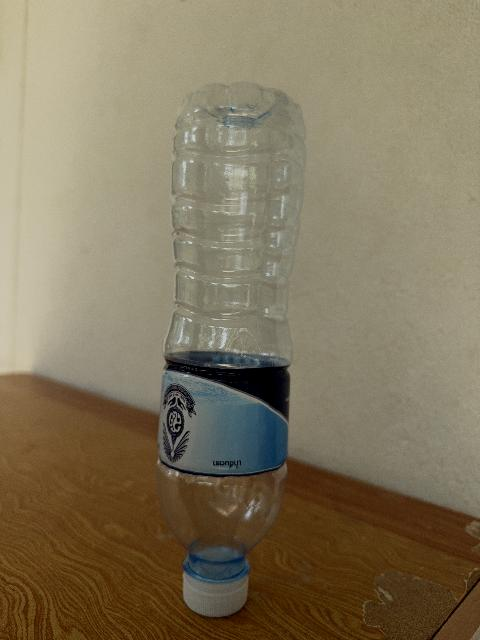bottle: (157, 83, 305, 616)
